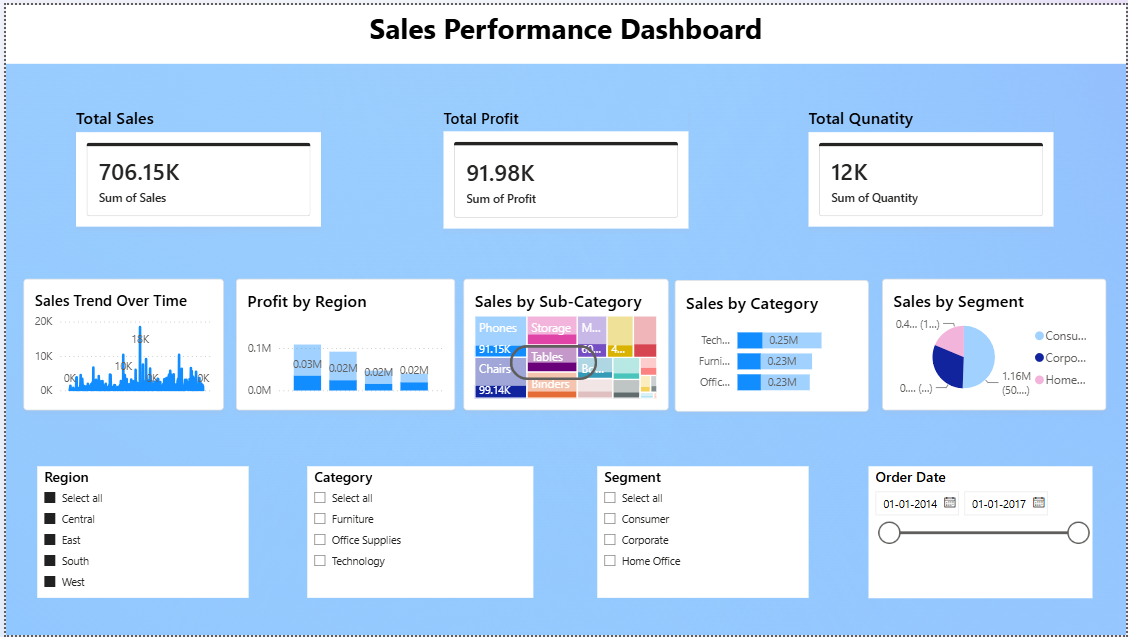

The dashboard page shown, as its layout file describes it:
{"tool":"powerbi","page":{"name":"Page 1","canvas":[1280,720],"ordinal":0},"visuals":[{"type":"cardVisual","title":"Total Profit","fields":{"Data":["Sum(Sample - Superstore.Profit)"]},"box":[500,117.1,280,138.6],"z":0},{"type":"cardVisual","title":"Total Sales","fields":{"Data":["Sum(Sample - Superstore.Sales)"]},"box":[80,115.7,280,138.6],"z":1},{"type":"cardVisual","title":"Total Qunatity","fields":{"Data":["Sum(Sample - Superstore.Quantity)"]},"box":[917.1,115.7,280,138.6],"z":2},{"type":"lineChart","title":"Sales Trend Over Time","fields":{"Y":["Sum(Sample - Superstore.Sales)"],"Category":["Sample - Superstore.Order Date"]},"box":[20,312.9,228.6,150],"z":3},{"type":"barChart","title":"Sales by Category","fields":{"Y":["Sum(Sample - Superstore.Sales)"],"Category":["Sample - Superstore.Category"]},"box":[764.3,314.3,221.4,150],"z":4},{"type":"clusteredColumnChart","title":"Profit by Region","fields":{"Category":["Sample - Superstore.Region"],"Y":["Sum(Sample - Superstore.Profit)"]},"box":[262.9,312.9,250,150],"z":5},{"type":"pieChart","title":"Sales by Segment","fields":{"Category":["Sample - Superstore.Segment"],"Y":["Sum(Sample - Superstore.Sales)"]},"box":[1001.4,312.9,255.7,150],"z":6},{"type":"treemap","title":"Sales by Sub-Category","fields":{"Group":["Sample - Superstore.Sub-Category"],"Values":["Sum(Sample - Superstore.Sales)"]},"box":[522.9,312.9,234.3,150],"z":7},{"type":"slicer","fields":{"Values":["Sample - Superstore.Region"]},"box":[35.7,527.1,241.4,150],"z":8},{"type":"slicer","fields":{"Values":["Sample - Superstore.Category"]},"box":[344.3,527.1,258.6,150],"z":9},{"type":"slicer","fields":{"Values":["Sample - Superstore.Segment"]},"box":[675.7,527.1,241.4,150],"z":10},{"type":"slicer","fields":{"Values":["Sample - Superstore.Order Date (bins)"]},"box":[985.7,527.1,255.7,150],"z":12},{"type":"textbox","box":[0,0,1280,67.1],"z":14}]}

Visuals, with their boxes in screenshot pixels (x1, y1, x2, y2), scaled from the page's 1280x720 canvas onto the 1128x637 screenshot:
"Total Profit" cardVisual: <region>441, 104, 687, 226</region>
"Total Sales" cardVisual: <region>70, 102, 317, 225</region>
"Total Qunatity" cardVisual: <region>808, 102, 1055, 225</region>
"Sales Trend Over Time" lineChart: <region>18, 277, 219, 410</region>
"Sales by Category" barChart: <region>674, 278, 869, 411</region>
"Profit by Region" clusteredColumnChart: <region>232, 277, 452, 410</region>
"Sales by Segment" pieChart: <region>882, 277, 1108, 410</region>
"Sales by Sub-Category" treemap: <region>461, 277, 667, 410</region>
slicer - Sample - Superstore.Region: <region>31, 466, 244, 599</region>
slicer - Sample - Superstore.Category: <region>303, 466, 531, 599</region>
slicer - Sample - Superstore.Segment: <region>595, 466, 808, 599</region>
slicer - Sample - Superstore.Order Date (bins): <region>869, 466, 1094, 599</region>
textbox: <region>0, 0, 1127, 59</region>
